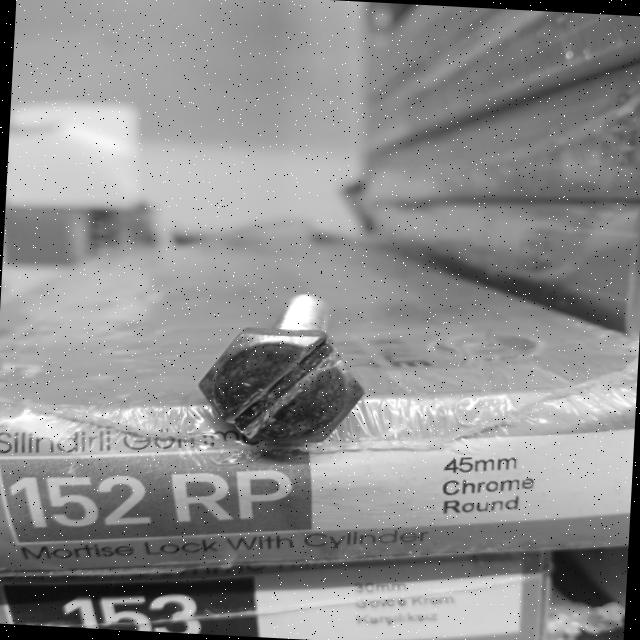Slotted: (184, 317, 385, 456)
